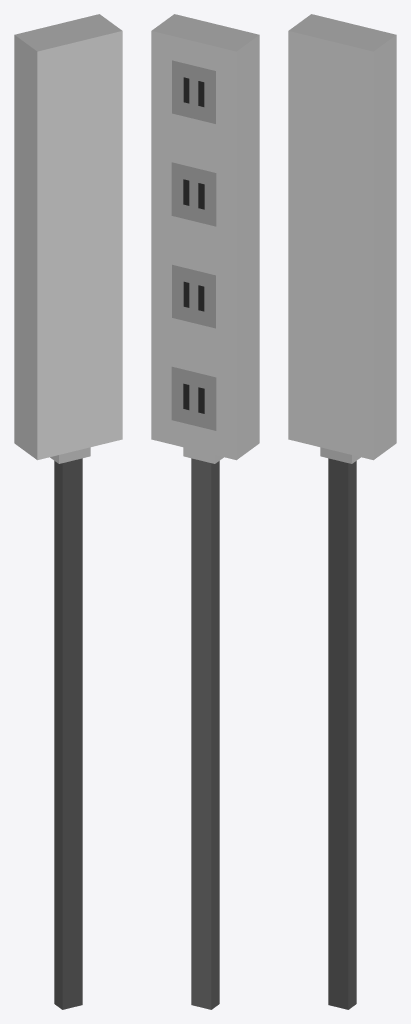
The model's file is PowerOutletMulti.glb.
The picture shows the model from 3 angles, left to right: view 1: azimuth 30°, elevation 25°; view 2: azimuth 150°, elevation 25°; view 3: azimuth 330°, elevation 25°; orthographic projection.
Visible parts, largest first — view 1: SO_PowerOutletMulti; view 2: SO_PowerOutletMulti; view 3: SO_PowerOutletMulti.
Boxes of the visible parts, x1,y1,x2,y2 form: SO_PowerOutletMulti: (14,14,122,1009); SO_PowerOutletMulti: (151,14,259,1009); SO_PowerOutletMulti: (288,14,396,1009).
Size of the model in its own units: 0.2197 by 2.4 by 0.1027.
Materials: 1 (1 with a texture image).
